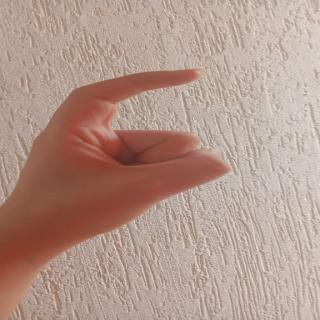RAA: (31, 67, 241, 223)
